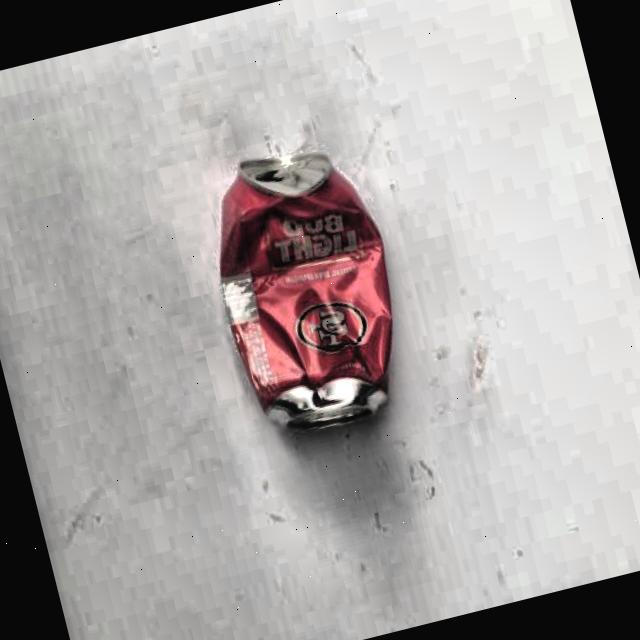metal: (196, 134, 424, 442)
